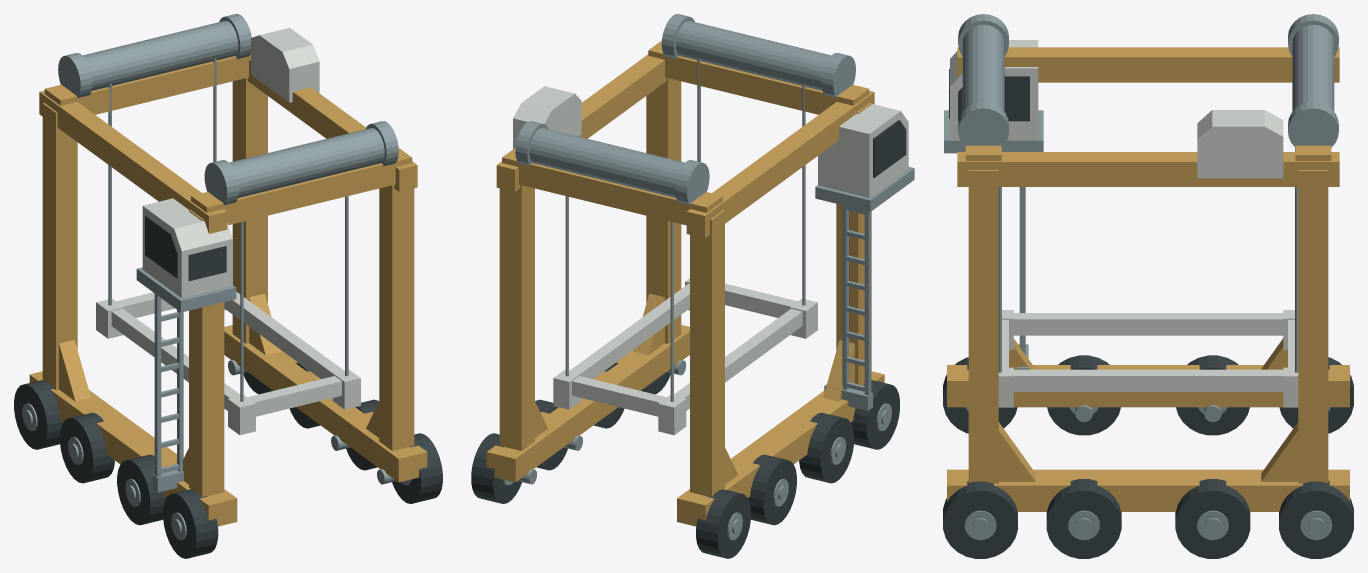
3 renders of one model, left to right at view 1: azimuth 30°, elevation 25°; view 2: azimuth 150°, elevation 25°; view 3: azimuth 270°, elevation 25°, orthographic. The views are drawn at different scales.
Parts seen in each view (by area): view 1: WholeEmptySuspendedSpreader, WholeTallCornerLegRightFront, WholeTallCornerLegLeftBack, WholeUpperWindingDrumFront, WholeUpperWindingDrumBack, WholeTallCornerLegLeftFront, WholeLongWheelSideFrameRight, WholeLongUpperSideRailLeft, WholeTallCornerLegRightBack, WholeFixedUpperCrossBridgeFront, WholeOffsetHighCab, WholeLongWheelSideFrameLeft (+19 smaller); view 2: WholeEmptySuspendedSpreader, WholeTallCornerLegLeftBack, WholeTallCornerLegRightBack, WholeUpperWindingDrumBack, WholeUpperWindingDrumFront, WholeLongWheelSideFrameRight, WholeLongUpperSideRailLeft, WholeTallCornerLegRightFront, WholeLongWheelSideFrameLeft, WholeOffsetHighCab, WholeFixedUpperCrossBridgeBack, WholeFixedUpperCrossBridgeFront (+18 smaller); view 3: WholeEmptySuspendedSpreader, WholeLongUpperSideRailLeft, WholeTallCornerLegRightBack, WholeTallCornerLegRightFront, WholeLongUpperSideRailRight, WholeLongWheelSideFrameRight, WholeLongWheelSideFrameLeft, WholeUpperWindingDrumBack, WholeUpperWindingDrumFront, WholeRearUpperPowerCowl, WholeGroundTyreRight1, WholeGroundTyreRight2 (+20 smaller).
Part boxes in pixels (box(x1,y1,x2,y2)): WholeEmptySuspendedSpreader: box(96, 292, 360, 435); WholeTallCornerLegRightFront: box(379, 185, 414, 450); WholeTallCornerLegLeftBack: box(42, 103, 77, 390); WholeUpperWindingDrumFront: box(204, 121, 398, 205); WholeUpperWindingDrumBack: box(58, 14, 251, 97); WholeTallCornerLegLeftFront: box(189, 210, 224, 496); WholeLongWheelSideFrameRight: box(224, 325, 427, 482); WholeLongUpperSideRailLeft: box(39, 90, 227, 233); WholeTallCornerLegRightBack: box(232, 78, 267, 343); WholeFixedUpperCrossBridgeFront: box(191, 148, 412, 225); WholeOffsetHighCab: box(142, 198, 232, 298); WholeLongWheelSideFrameLeft: box(29, 371, 237, 526); WholeEmptySuspendedSpreader: box(553, 278, 817, 435); WholeTallCornerLegLeftBack: box(690, 210, 724, 496); WholeTallCornerLegRightBack: box(499, 185, 534, 450); WholeUpperWindingDrumBack: box(515, 121, 709, 204); WholeUpperWindingDrumFront: box(661, 14, 855, 97); WholeLongWheelSideFrameRight: box(486, 325, 689, 482); WholeLongUpperSideRailLeft: box(686, 90, 874, 238); WholeTallCornerLegRightFront: box(646, 77, 681, 343); WholeLongWheelSideFrameLeft: box(677, 371, 884, 526); WholeOffsetHighCab: box(818, 104, 908, 197); WholeFixedUpperCrossBridgeBack: box(502, 148, 722, 225); WholeFixedUpperCrossBridgeFront: box(648, 40, 869, 114); WholeEmptySuspendedSpreader: box(998, 310, 1298, 407); WholeLongUpperSideRailLeft: box(957, 47, 1339, 82); WholeTallCornerLegRightBack: box(1298, 170, 1328, 483); WholeTallCornerLegRightFront: box(968, 170, 998, 483); WholeLongUpperSideRailRight: box(957, 152, 1339, 186); WholeLongWheelSideFrameRight: box(947, 469, 1349, 511); WholeLongWheelSideFrameLeft: box(947, 365, 1349, 407); WholeUpperWindingDrumBack: box(1288, 14, 1338, 147); WholeUpperWindingDrumFront: box(958, 14, 1008, 147); WholeRearUpperPowerCowl: box(1197, 110, 1283, 178); WholeGroundTyreRight1: box(1046, 479, 1121, 558); WholeGroundTyreRight2: box(1175, 479, 1250, 558).
Bounding box in the file's own units: 4.6 × 6.33 × 5.48.
